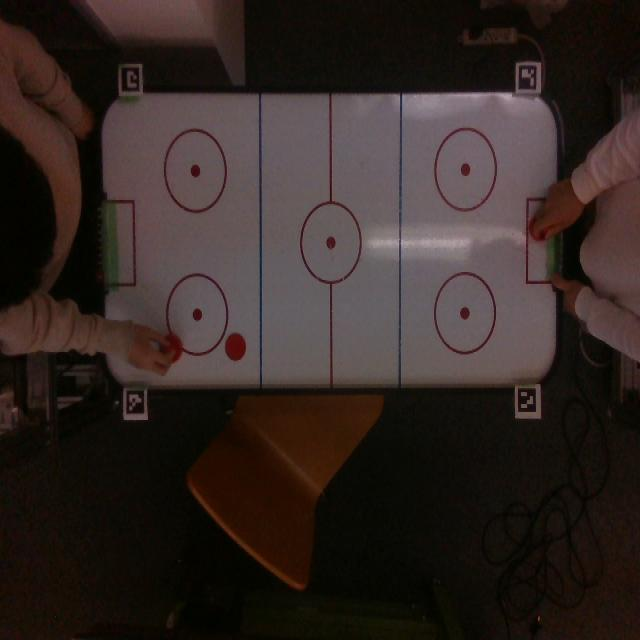puck: (225, 333, 246, 361)
